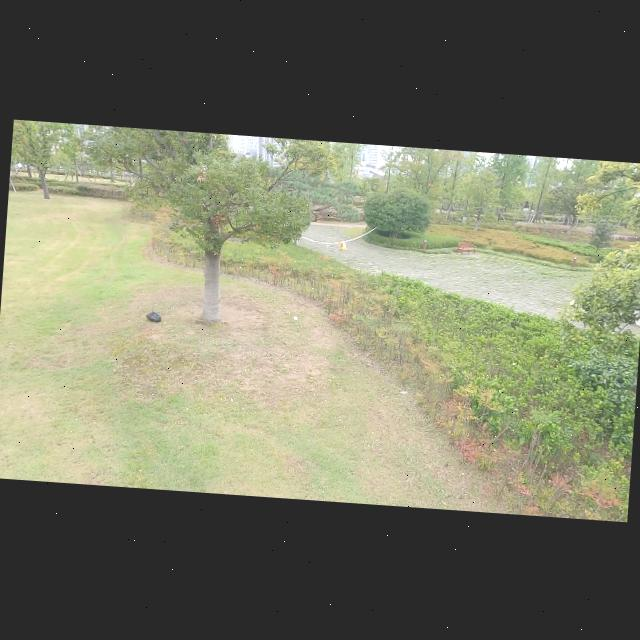trash: (143, 307, 163, 326)
